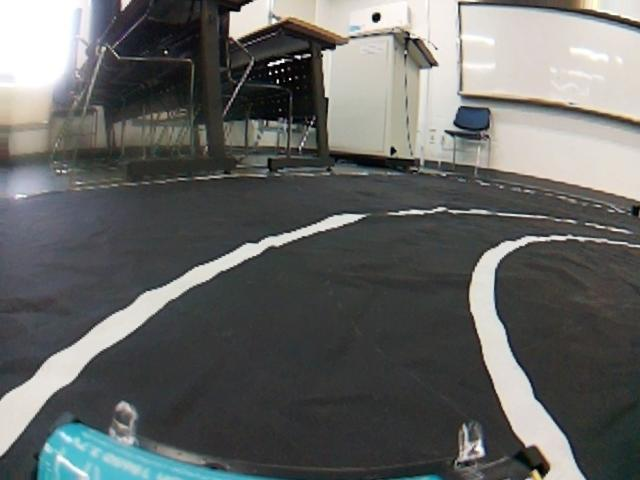right: (4, 188, 640, 480)
